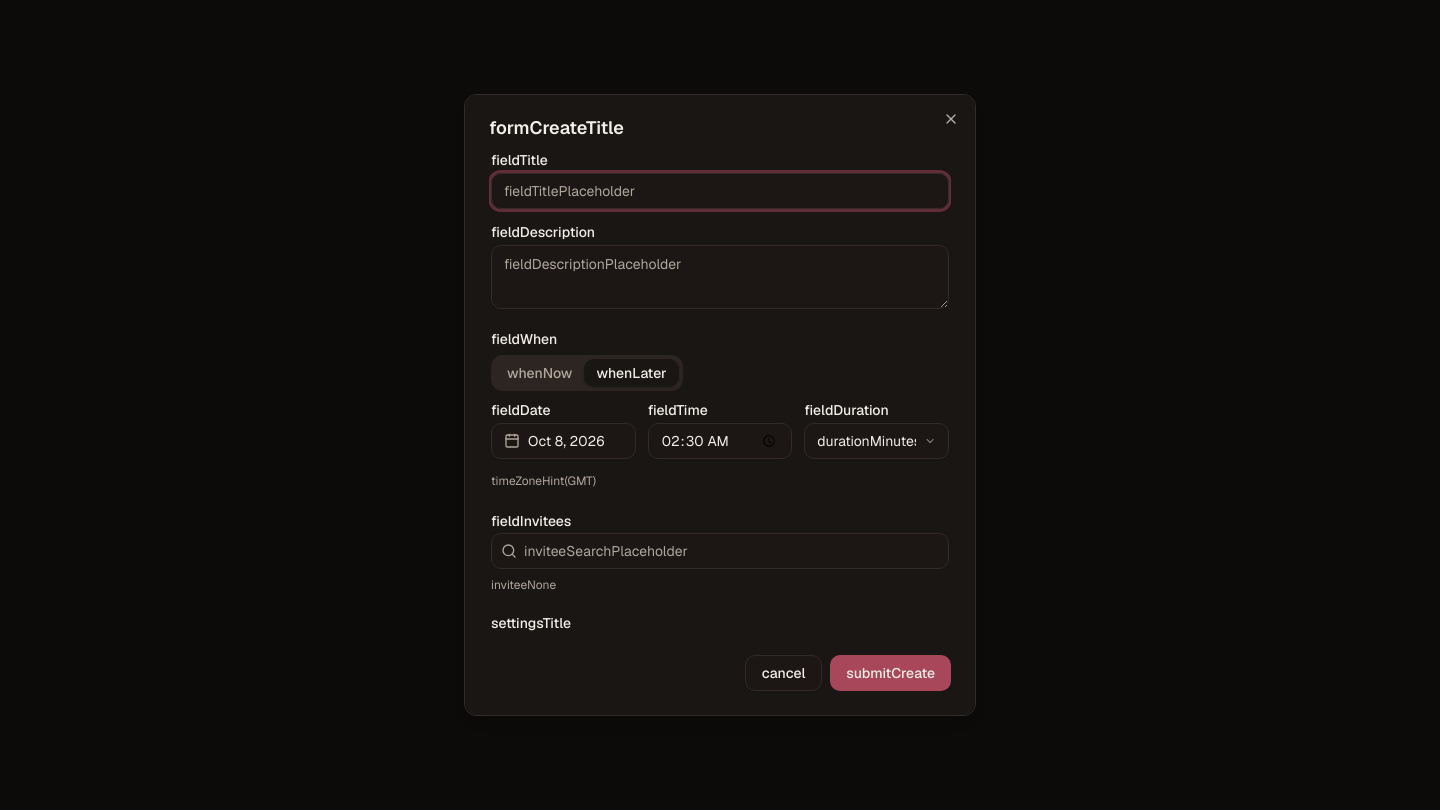
Test: MeetingFormDialog › shows a server field error inline instead of a toast
In the field labelled "fieldTitle": (720, 191) left=491, top=173, right=949, bottom=209, type "Sprint review"
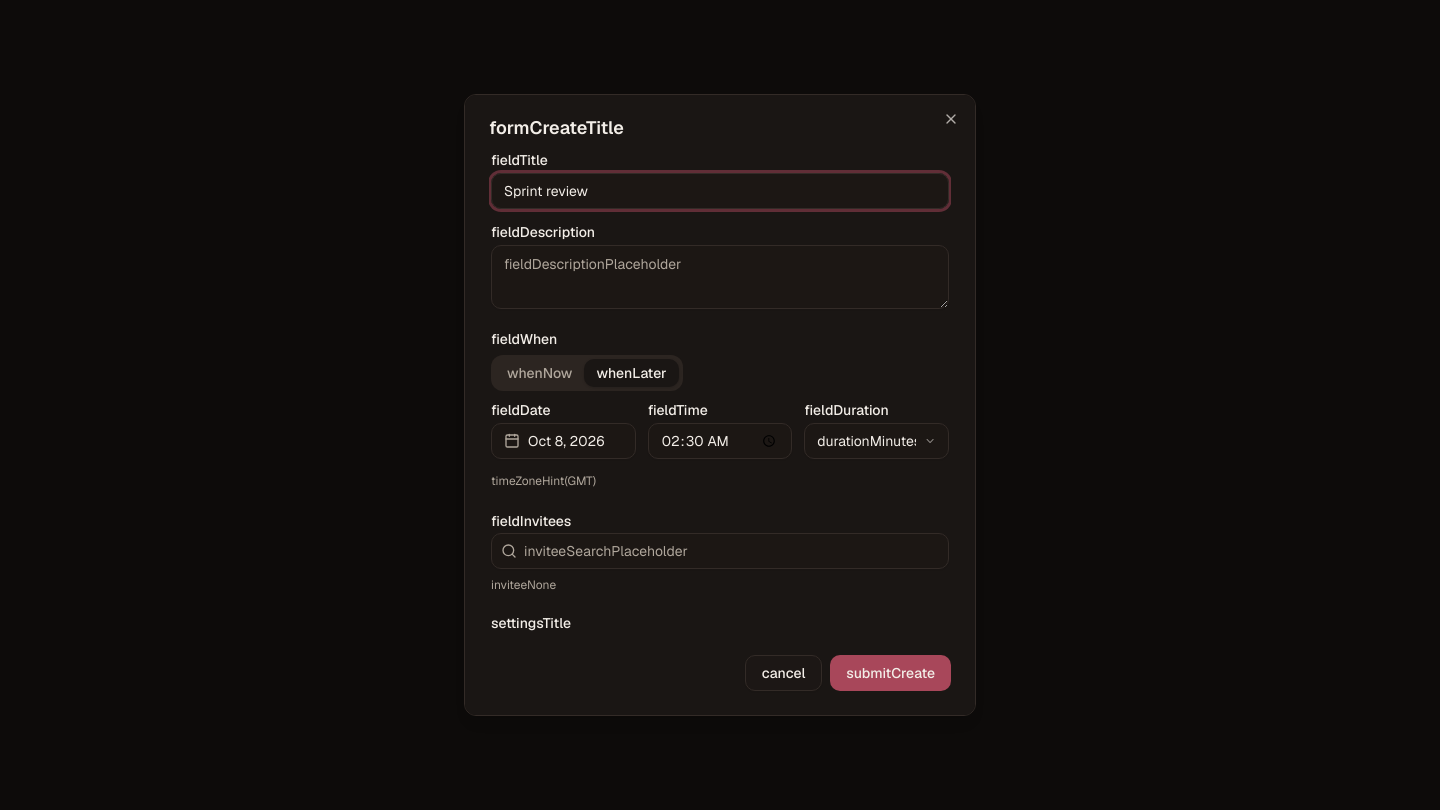
Click the button "submitCreate": (891, 673) left=830, top=655, right=951, bottom=691
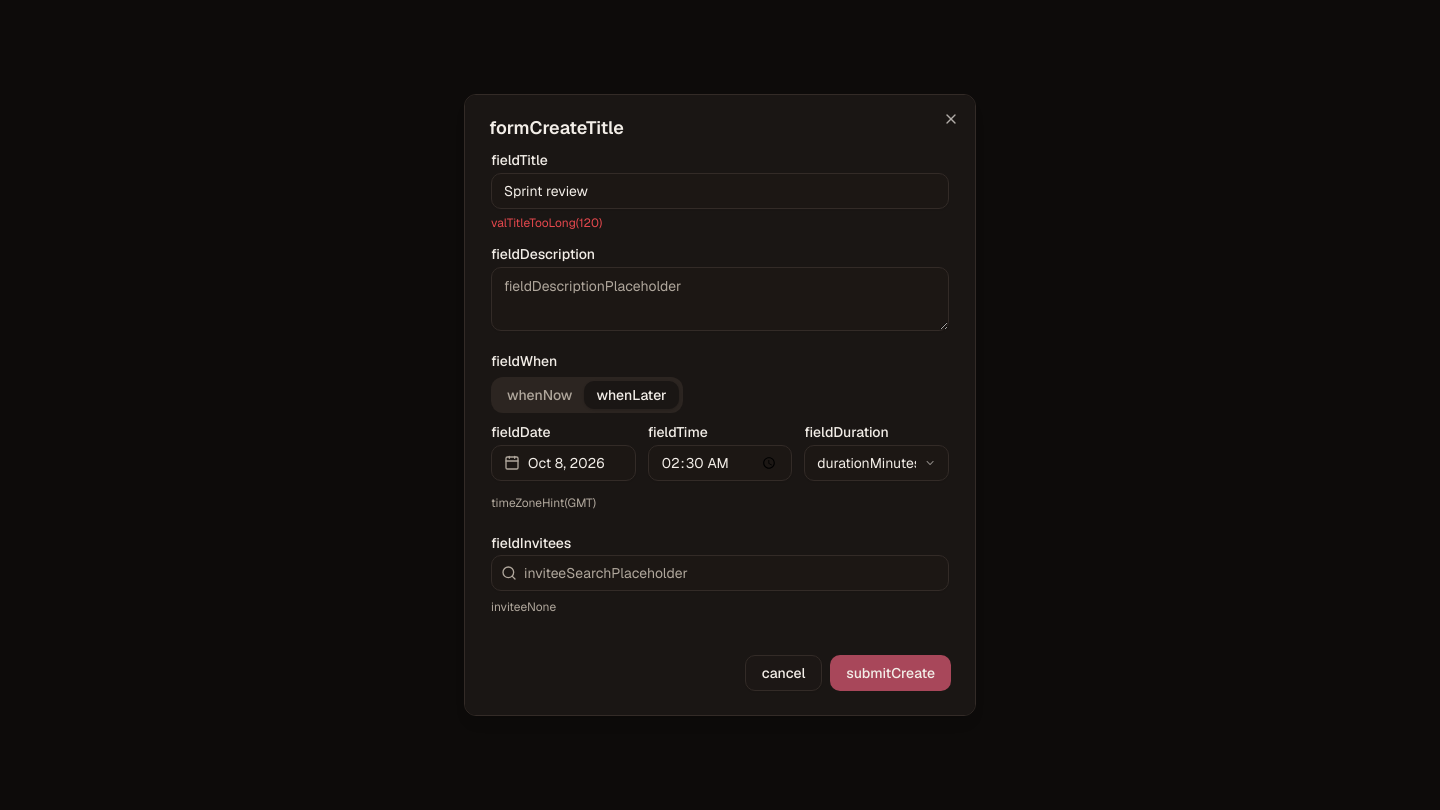
Now the text "valTitleTooLong(120)" is shown, box left=491, top=215, right=602, bottom=231
